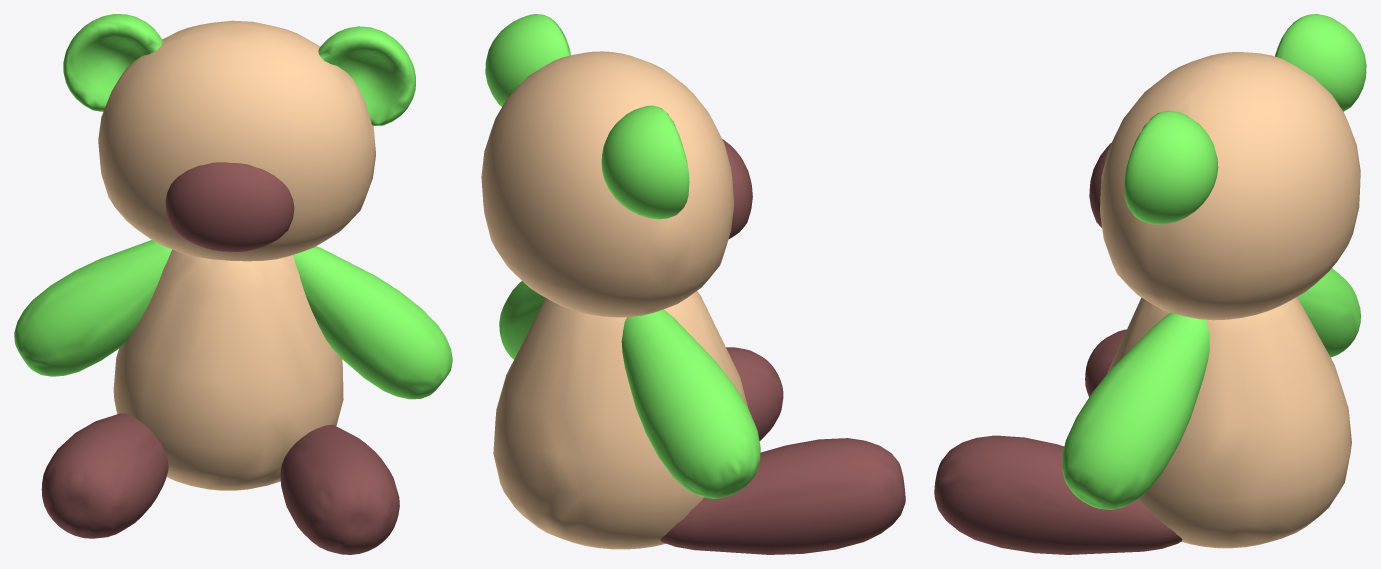
The model's file is Toy32.fbx.
The picture shows the model from 3 angles, left to right: view 1: azimuth 30°, elevation 25°; view 2: azimuth 150°, elevation 25°; view 3: azimuth 270°, elevation 25°; orthographic projection. The views are drawn at different scales.
Parts seen in each view (by area): view 1: Toy32; view 2: Toy32; view 3: Toy32.
Part boxes in pixels (x1,y1,x2,y2): Toy32: (14, 14, 452, 554); Toy32: (481, 14, 905, 554); Toy32: (934, 14, 1366, 554).
Bounding box in the file's own units: 0.1297 × 0.1445 × 0.1178.
